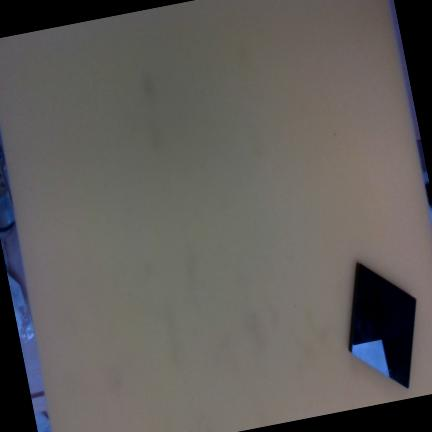tile: (348, 261, 419, 392)
